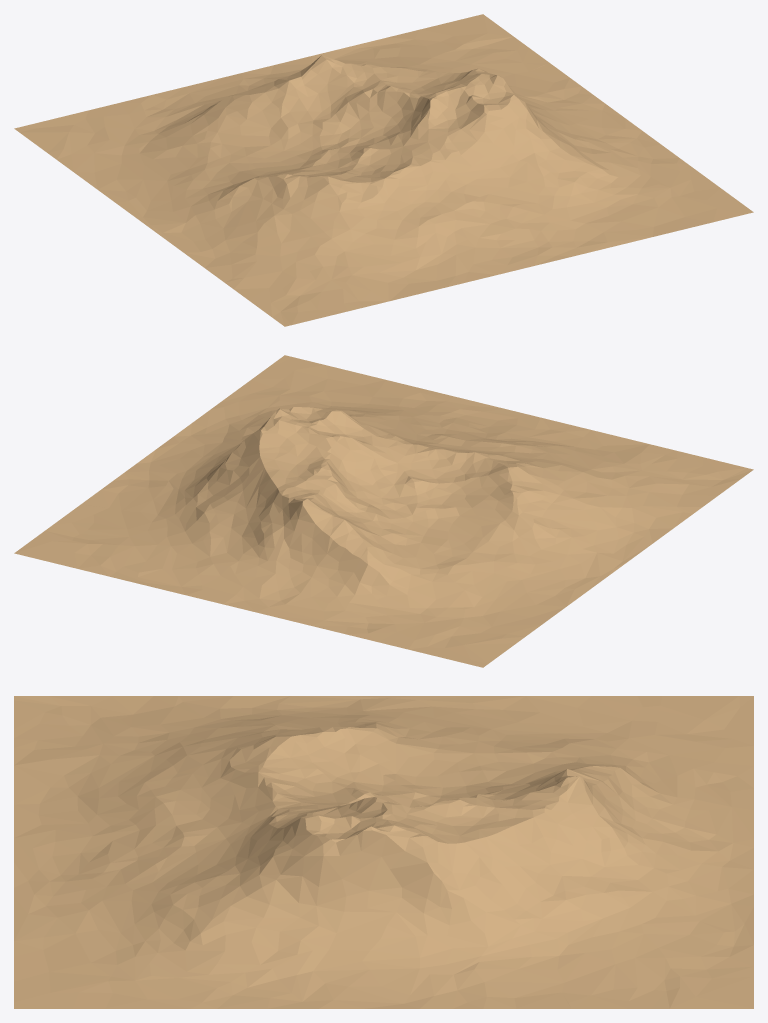
File: MT_Terrain_L_f_01.fbx
The picture shows the model from 3 angles, top to bottom: view 1: azimuth 30°, elevation 25°; view 2: azimuth 150°, elevation 25°; view 3: azimuth 270°, elevation 25°; orthographic projection. The views are drawn at different scales.
Visible parts, largest first — view 1: MT_Terrain_L_f_01; view 2: MT_Terrain_L_f_01; view 3: MT_Terrain_L_f_01.
Boxes of the visible parts, box(x1,y1,x2,y2) form: MT_Terrain_L_f_01: box(14, 14, 753, 326); MT_Terrain_L_f_01: box(14, 355, 753, 667); MT_Terrain_L_f_01: box(14, 696, 753, 1008).
Size of the model in its own units: 10000 by 1488 by 10000.
